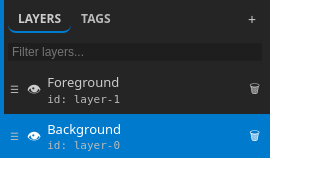
it: LayersPanel › rename cancels on Escape
Double-click the text "Background".
double_click(84, 129)  # box [47,120,121,138]
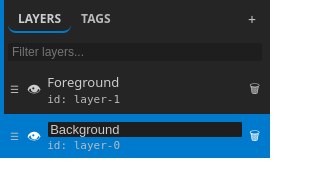
Replace the text in the 2nd field with "Renamed" at point(145, 129), box [47,121,243,138]
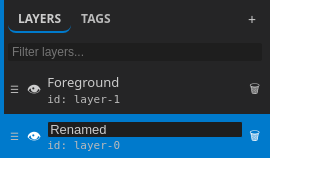
Press Escape in the 2nd field, box [47,121,243,138]
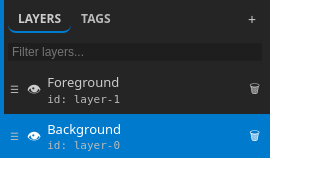
expect the text "Background" is shown: met, box [47,120,121,138]
